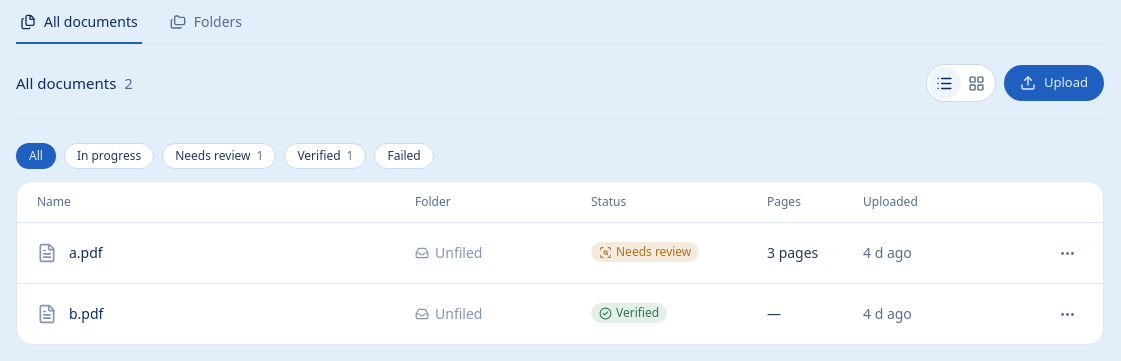
Test: All documents › filters documents by status with the pills
This screenshot has width=1121, height=361.
expect the link "a.pdf" is shown: met, box [69,243,103,262]
Click the button "Verified1". click: (325, 156)
box: [284,143,366,169]
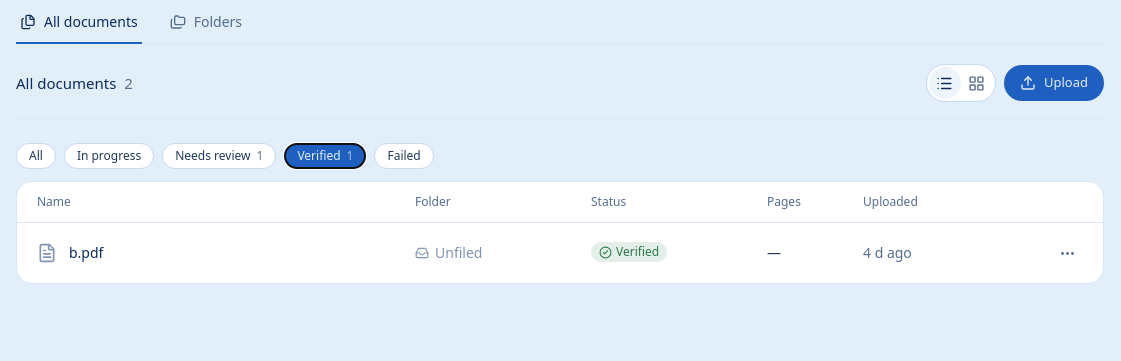
expect the link "b.pdf" is shown: met, box [69,243,103,262]
expect the link "a.pdf" is gone: met
